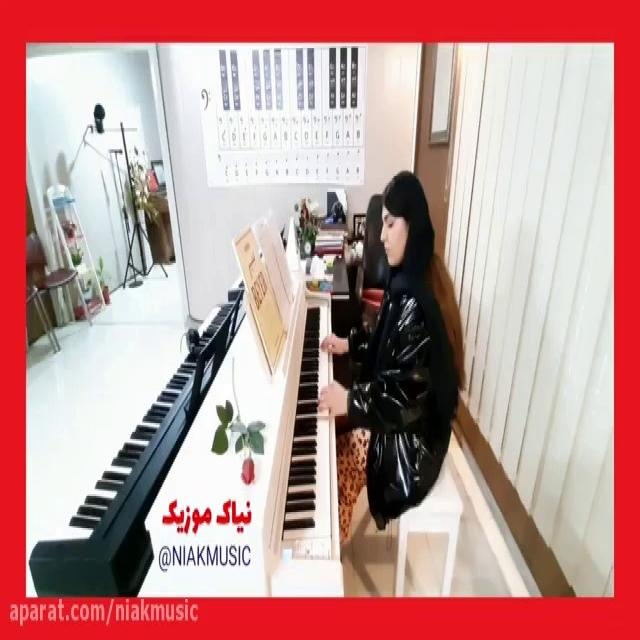Piano: (41, 286, 249, 543), (277, 300, 336, 553)
